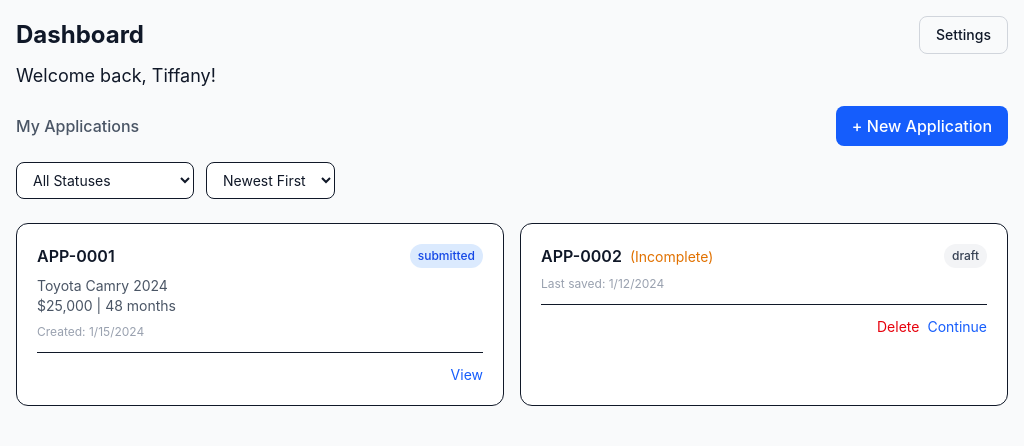
Test case: DashboardPage › shows filter-aware empty state message
Expected: the number of elements with test id "app-card" is 2, x1=16 y1=223 x2=504 y2=406; x1=520 y1=223 x2=1008 y2=406
Select "approved" in the dropdown with test id "status-filter" at (105, 180), box x1=16 y1=162 x2=194 y2=199
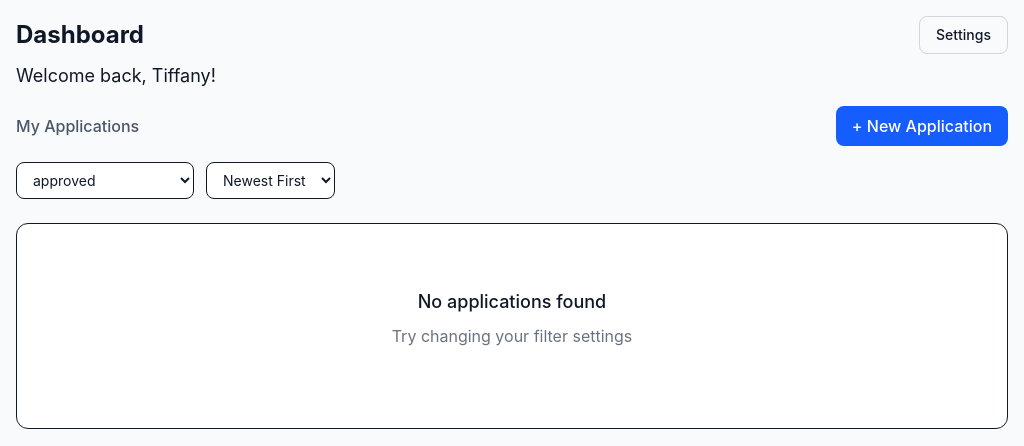
Now the text "Try changing your filter settings" is shown, box x1=392 y1=326 x2=632 y2=346
